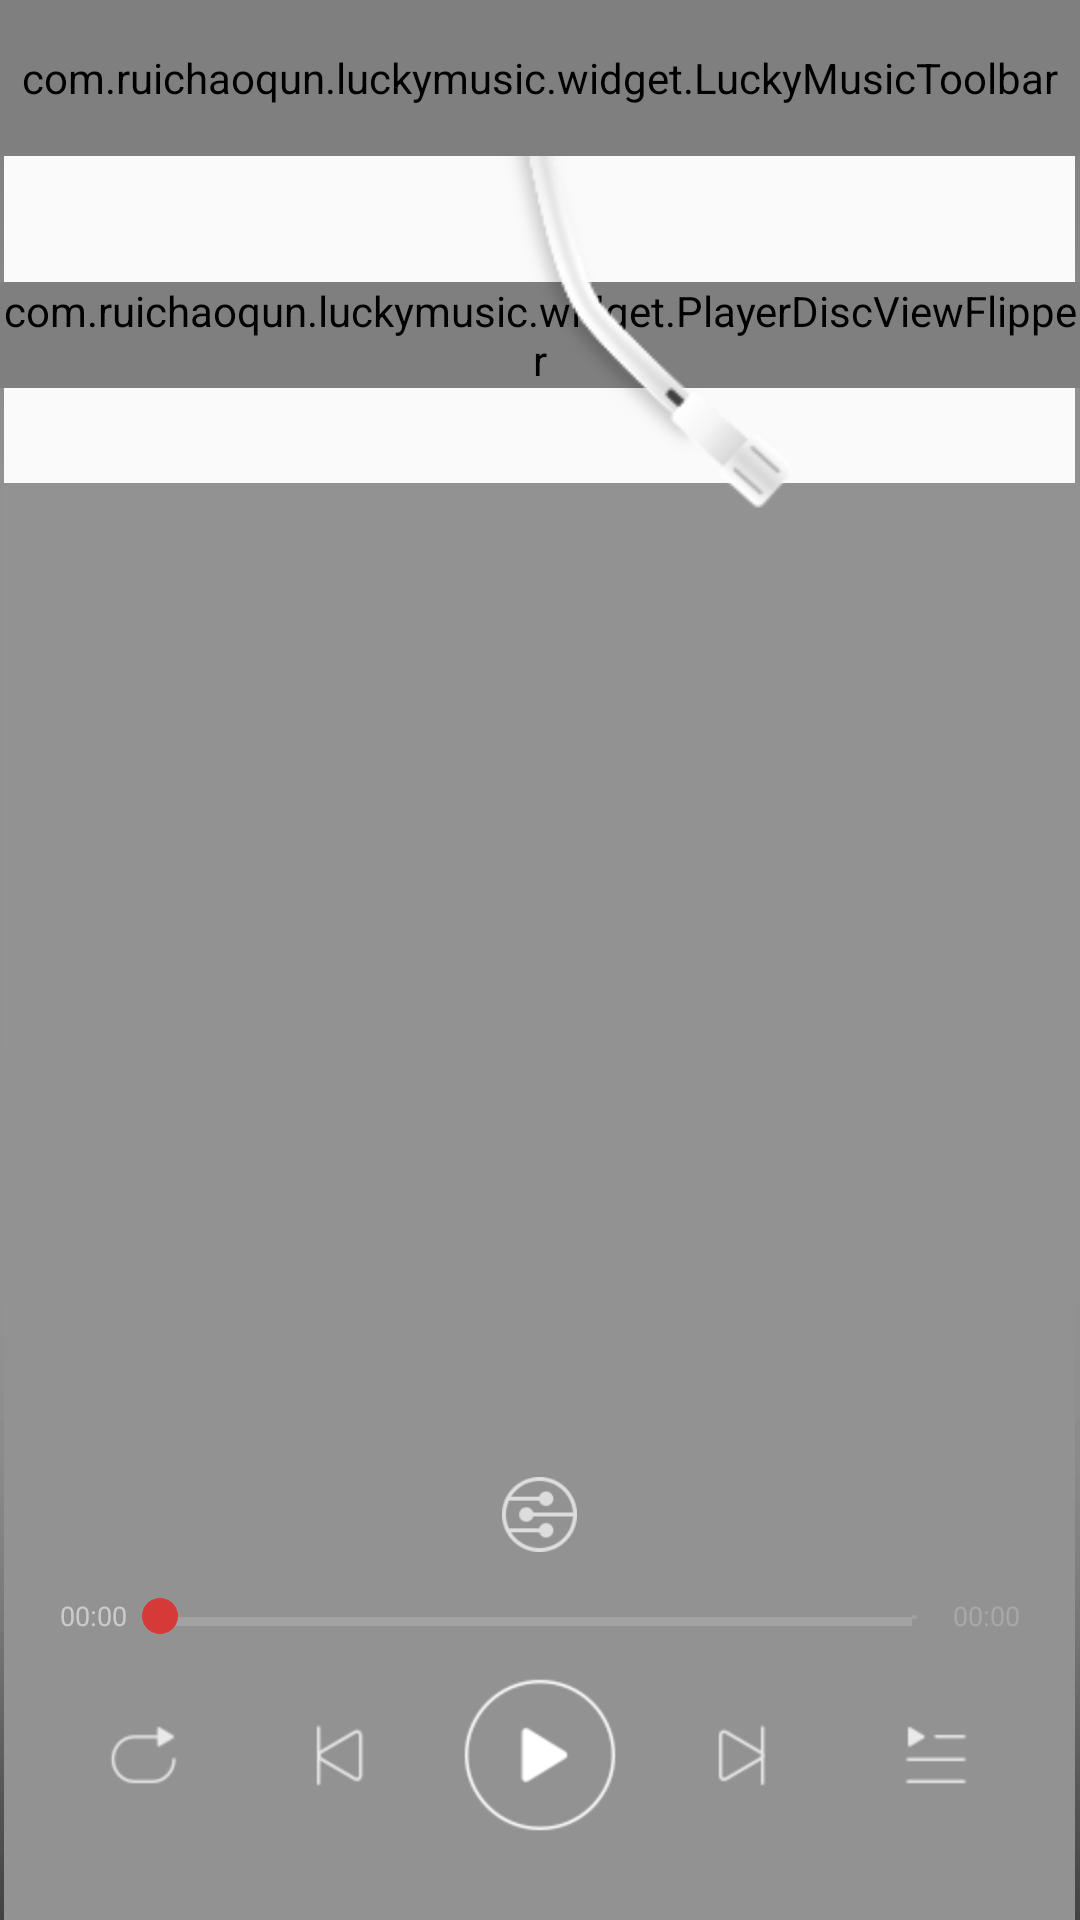

Icons on this 1080w x 1920h Android screen, each with the point to tap as point (x, y):
player mode list circulation: point (143, 1755)
player next: point (742, 1755)
player play: point (540, 1755)
player play list: point (936, 1755)
player previous: point (340, 1755)
